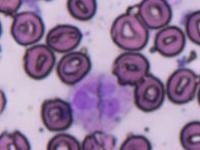N: (68, 72, 134, 132)
